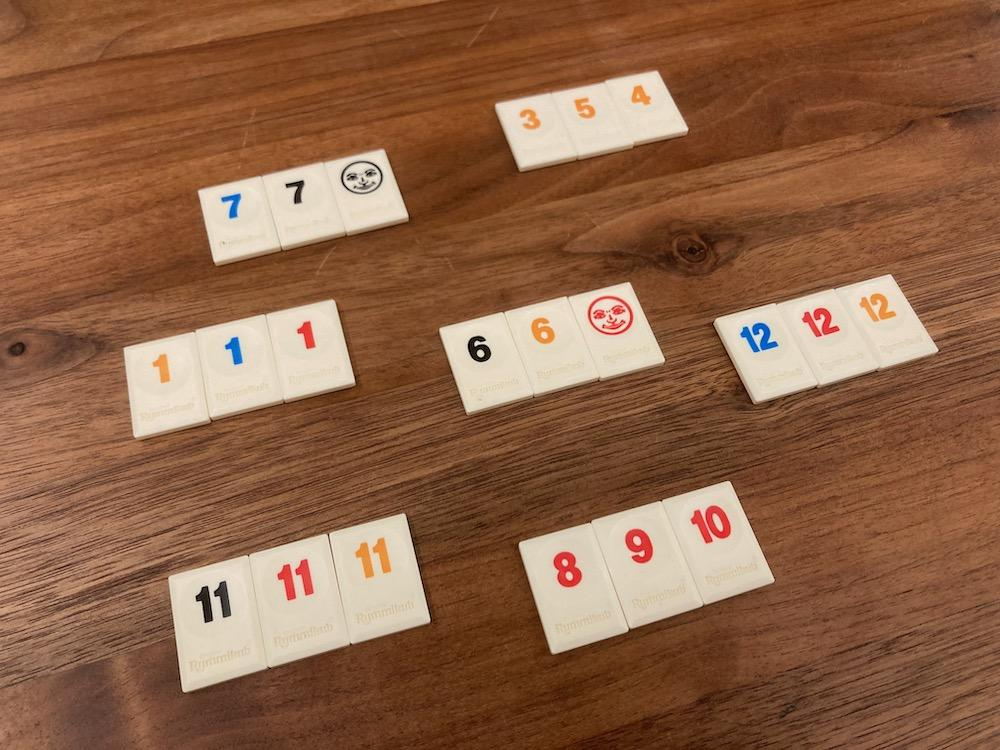black_11: (170, 557, 268, 691)
black_6: (440, 312, 533, 414)
black_7: (265, 162, 346, 250)
blue_1: (195, 314, 283, 420)
blue_12: (717, 305, 816, 404)
blue_7: (200, 176, 281, 266)
joker: (570, 283, 664, 379), (326, 148, 408, 234)
orange_1: (124, 332, 211, 439)
orange_11: (328, 514, 430, 643)
orange_12: (837, 275, 938, 369)
orange_3: (496, 94, 578, 172)
orange_4: (607, 70, 688, 145)
orange_5: (553, 84, 633, 160)
orange_6: (506, 297, 598, 396)
red_1: (267, 301, 355, 402)
red_10: (662, 482, 773, 604)
red_11: (251, 535, 350, 666)
red_12: (778, 289, 877, 387)
red_8: (520, 523, 629, 654)
red_9: (594, 502, 703, 629)
